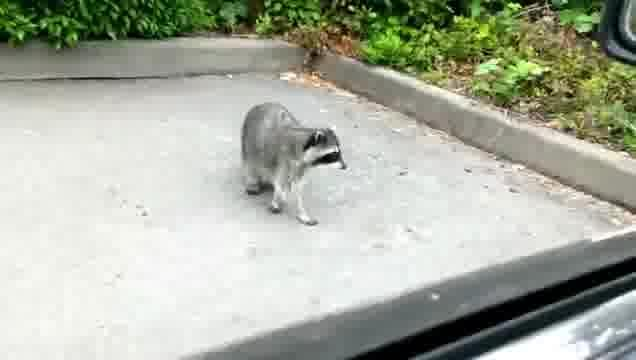raccoon: (240, 102, 350, 229)
